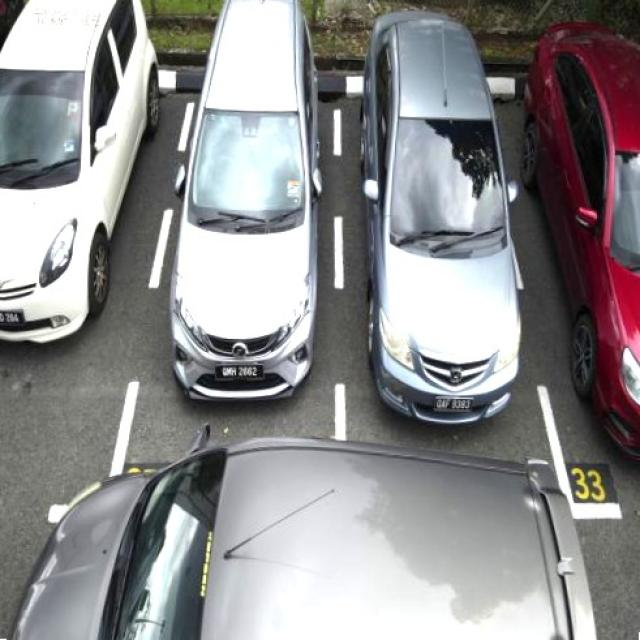Legalparking: (360, 10, 520, 422), (169, 0, 321, 399), (0, 0, 159, 339), (521, 22, 639, 458)
illegalparking: (8, 425, 594, 639)
